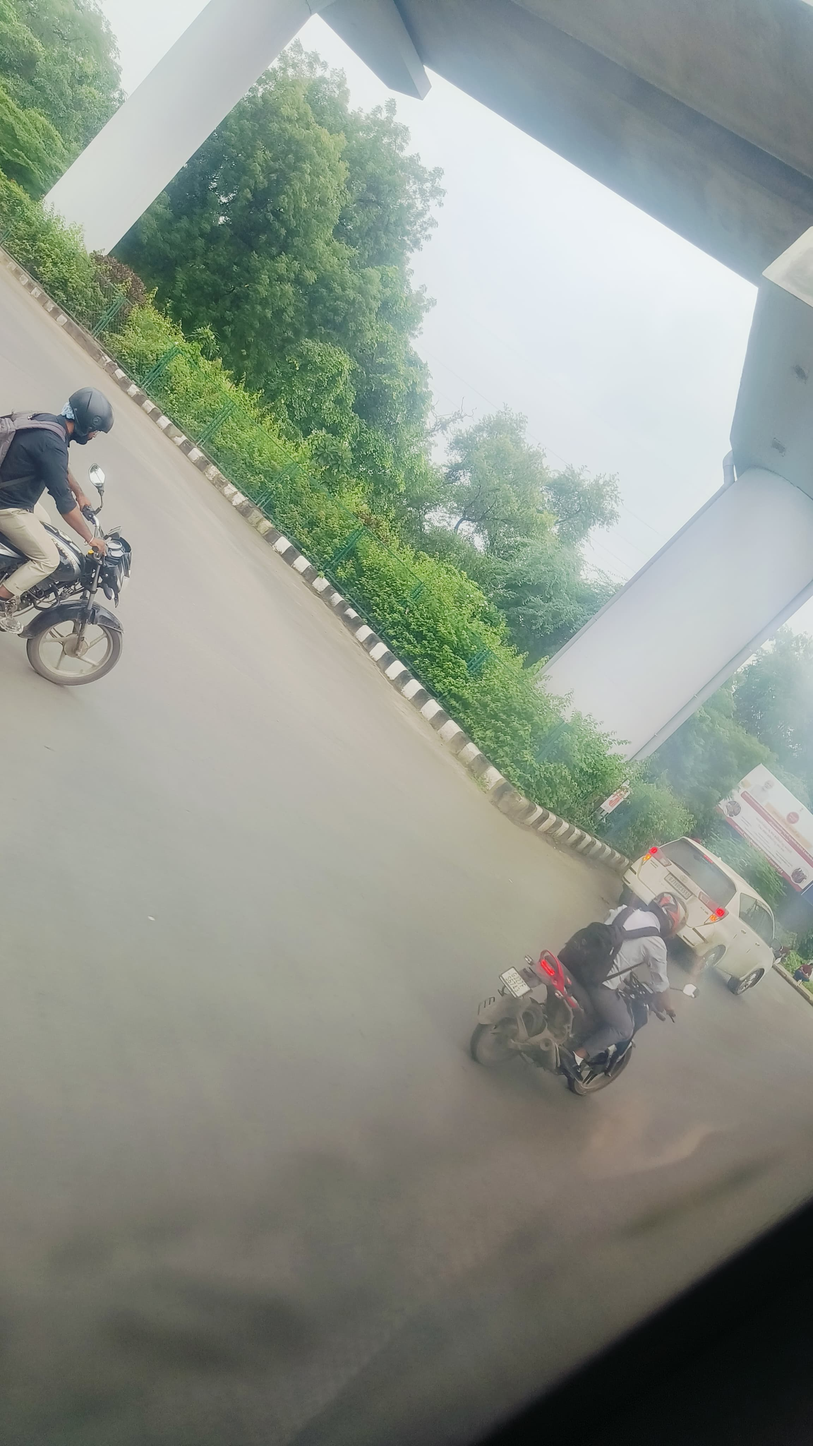BikeWithRider: (459, 872, 705, 1112), (0, 378, 141, 698)
Helmet: (53, 381, 124, 453), (644, 884, 694, 946)
